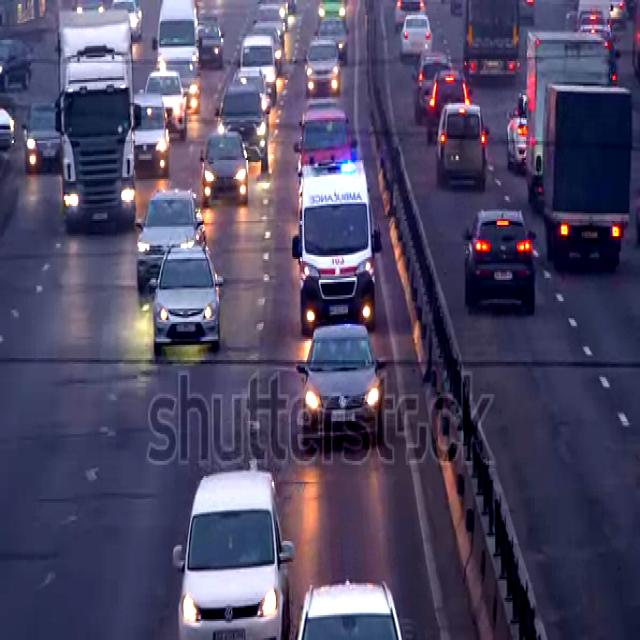ambulance: (292, 156, 382, 343)
